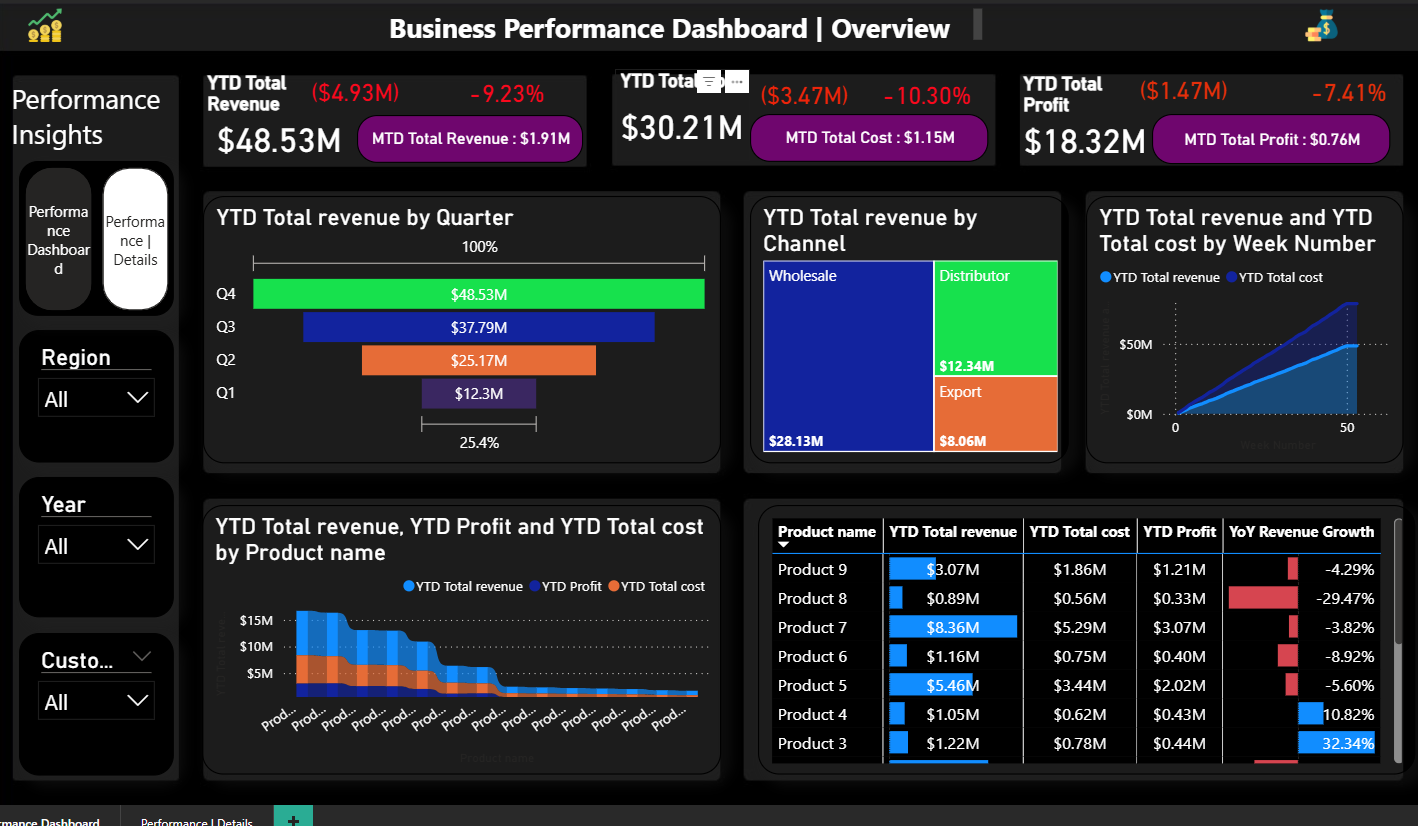

Layout of this report page (visuals, bound fields, positions):
{"tool":"powerbi","page":{"name":"Performance Dashboard","canvas":[1280,720],"ordinal":0},"visuals":[{"type":"card","title":"YTD Total Revenue","fields":{"Values":["FactSales.YTD Total revenue"]},"box":[185.7,60.9,138.9,82.2],"z":0},{"type":"card","title":"YTD Total Revenue","fields":{"Values":["FactSales.Total Revenue Difference"]},"box":[275,58.1,97.8,42.5],"z":1000},{"type":"card","title":"YTD Total Revenue","fields":{"Values":["FactSales.YoY Growth Cost"]},"box":[780.9,60.9,110.6,42.5],"z":2000},{"type":"card","fields":{"Values":["FactSales.MTD revenue Kpi"]},"box":[324.6,100.6,202.7,42.5],"z":3000},{"type":"card","title":"YTD Total Cost","fields":{"Values":["FactSales.YTD Total cost"]},"box":[557,59.5,120.5,82.2],"z":4000},{"type":"card","title":"YTD Total Revenue","fields":{"Values":["FactSales.Total Cost Difference"]},"box":[677.5,60.9,97.8,42.5],"z":5000},{"type":"card","title":"YTD Total Revenue","fields":{"Values":["FactSales.YoY Revenue Growth"]},"box":[403.9,59.5,110.6,42.5],"z":6000},{"type":"card","fields":{"Values":["FactSales.Total Cost KPI"]},"box":[677.5,99.2,214,42.5],"z":7000},{"type":"card","title":"YTD Total Profit","fields":{"Values":["FactSales.YTD Profit"]},"box":[918.4,62.4,120.5,82.2],"z":8000},{"type":"card","title":"YTD Total Revenue","fields":{"Values":["FactSales.YoY Profit Growth"]},"box":[1166.5,58.1,97.8,42.5],"z":9000},{"type":"card","title":"YTD Total Revenue","fields":{"Values":["FactSales.Total Profit Difference"]},"box":[1012,56.7,110.6,42.5],"z":10000},{"type":"card","fields":{"Values":["FactSales.Profi KPI"]},"box":[1038.9,99.2,214,45.4],"z":11000},{"type":"funnel","fields":{"Category":["Date_Table.Quarter"],"Y":["FactSales.YTD Total revenue"]},"box":[186.5,173,465.3,240.2],"z":12000},{"type":"ribbonChart","fields":{"Category":["DimProducts.Product name"],"Y":["FactSales.YTD Total revenue","FactSales.YTD Profit","FactSales.YTD Total cost"]},"box":[185.7,450.7,466.3,242.4],"z":13000},{"type":"tableEx","fields":{"Values":["DimProducts.Product name","FactSales.YTD Total revenue","FactSales.YTD Total cost","FactSales.YTD Profit","FactSales.YoY Revenue Growth"]},"box":[684.6,450.7,589.6,242.4],"z":14000},{"type":"treemap","fields":{"Group":["DimRegion.Channel"],"Values":["FactSales.YTD Total revenue"]},"box":[677.5,172.9,286.3,239.5],"z":15000},{"type":"stackedAreaChart","fields":{"Y":["FactSales.YTD Total revenue","FactSales.YTD Total cost"],"Category":["Date_Table.Week Number"]},"box":[979.4,172.9,284.9,239.5],"z":16000},{"type":"slicer","fields":{"Values":["DimRegion.Delivery Region Name"]},"box":[21.3,293.4,138.9,119.1],"z":17000},{"type":"slicer","fields":{"Values":["Date_Table.Year"]},"box":[21.3,425.2,138.9,126.1],"z":18000},{"type":"slicer","fields":{"Values":["DimCustomer.Customer name"]},"box":[21.3,565.5,138.9,127.6],"z":19000},{"type":"textbox","box":[348.7,0,542.8,39.7],"z":20000},{"type":"image","box":[9.9,0,69.4,39.7],"z":21000},{"type":"image","box":[1129.6,0,123.3,39.7],"z":22000},{"type":"textbox","box":[9.9,63.8,150.2,80.8],"z":23000},{"type":"pageNavigator","box":[21.3,141.7,138.9,138.9],"z":24000}]}

Visuals, with their boxes on the page's 1280x720 design canvas (x1, y1, x2, y2). These are canvas units, not pixel positions in the 1418x826 screenshot, which may show the page scaled, cropped or inside an application window:
"YTD Total Revenue" card: 186/61/325/143
"YTD Total Revenue" card: 275/58/373/101
"YTD Total Revenue" card: 781/61/892/103
card - FactSales.MTD revenue Kpi: 325/101/527/143
"YTD Total Cost" card: 557/60/678/142
"YTD Total Revenue" card: 678/61/775/103
"YTD Total Revenue" card: 404/60/514/102
card - FactSales.Total Cost KPI: 678/99/892/142
"YTD Total Profit" card: 918/62/1039/145
"YTD Total Revenue" card: 1166/58/1264/101
"YTD Total Revenue" card: 1012/57/1123/99
card - FactSales.Profi KPI: 1039/99/1253/145
funnel - Date_Table.Quarter x FactSales.YTD Total revenue: 186/173/652/413
ribbonChart - DimProducts.Product name x FactSales.YTD Total revenue: 186/451/652/693
tableEx - DimProducts.Product name x FactSales.YTD Total revenue: 685/451/1274/693
treemap - DimRegion.Channel x FactSales.YTD Total revenue: 678/173/964/412
stackedAreaChart - FactSales.YTD Total revenue x FactSales.YTD Total cost: 979/173/1264/412
slicer - DimRegion.Delivery Region Name: 21/293/160/412
slicer - Date_Table.Year: 21/425/160/551
slicer - DimCustomer.Customer name: 21/566/160/693
textbox: 349/0/892/40
image: 10/0/79/40
image: 1130/0/1253/40
textbox: 10/64/160/145
pageNavigator: 21/142/160/281
